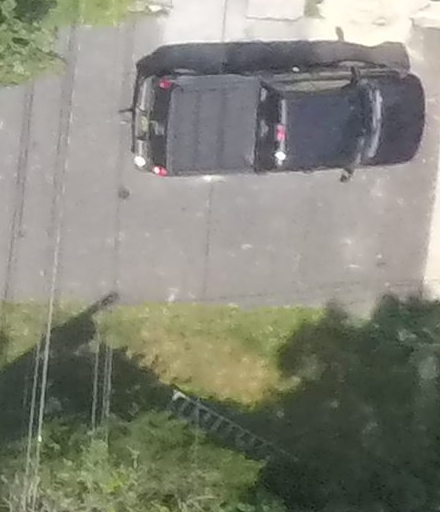car: (139, 37, 438, 201)
